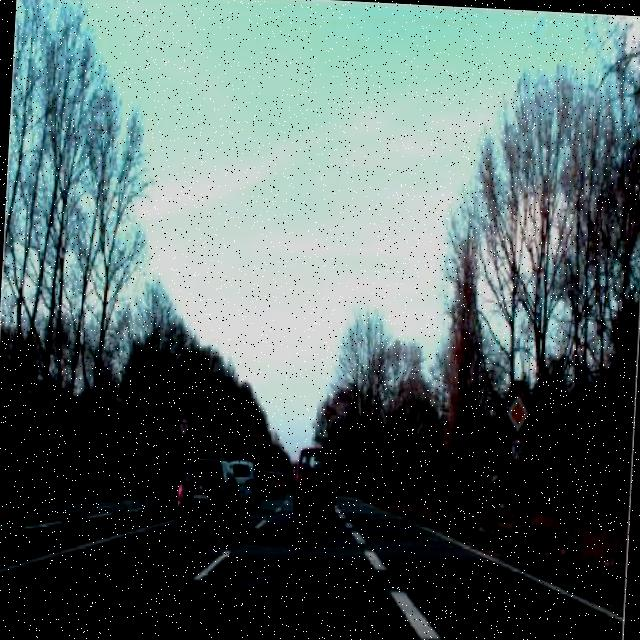Ograniczenie predkosci do 70: (506, 432, 529, 469), (175, 413, 193, 441)
